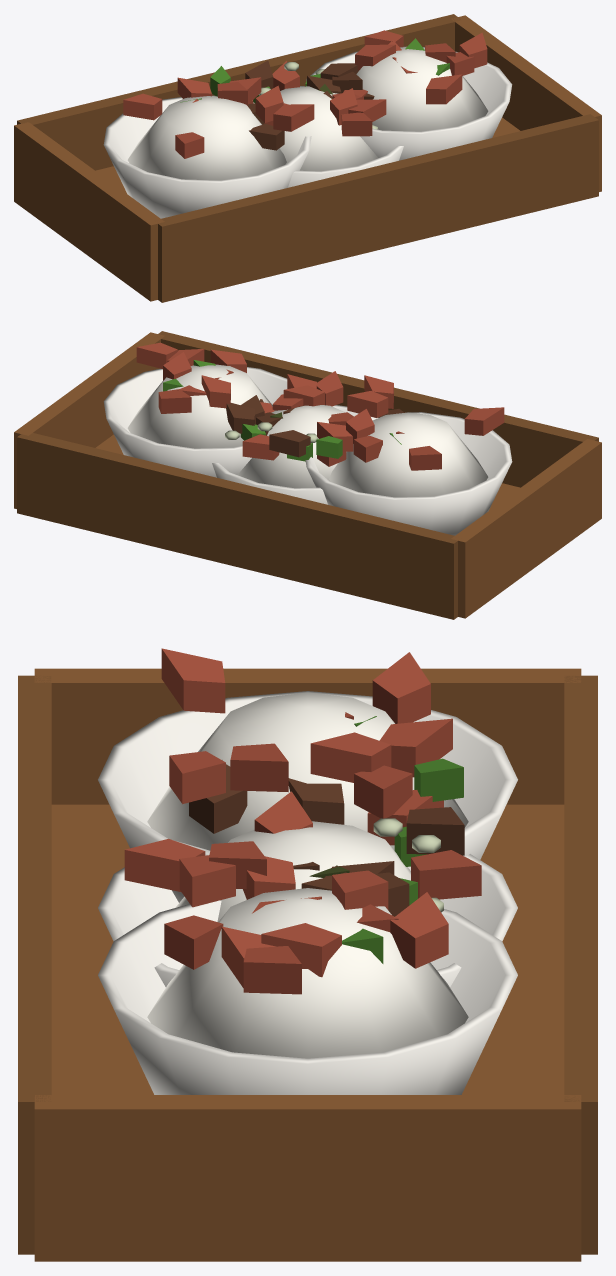
File: Dish_RiceBowl.fbx
3 renders of one model, top to bottom at view 1: azimuth 30°, elevation 25°; view 2: azimuth 150°, elevation 25°; view 3: azimuth 270°, elevation 25°, orthographic. The views are drawn at different scales.
Parts seen in each view (by area): view 1: Dish_RiceBowl__Stack, Dish_RiceBowl, Dish_RiceBowl__Rotten; view 2: Dish_RiceBowl__Stack, Dish_RiceBowl, Dish_RiceBowl__Rotten; view 3: Dish_RiceBowl__Stack, Dish_RiceBowl, Dish_RiceBowl__Rotten.
Boxes of the visible parts, x1=… form: Dish_RiceBowl__Stack: x1=14, y1=14, x2=601, y2=302; Dish_RiceBowl: x1=248, y1=61, x2=403, y2=187; Dish_RiceBowl__Rotten: x1=245, y1=60, x2=377, y2=150; Dish_RiceBowl__Stack: x1=14, y1=331, x2=601, y2=619; Dish_RiceBowl: x1=212, y1=371, x2=358, y2=504; Dish_RiceBowl__Rotten: x1=225, y1=395, x2=404, y2=457; Dish_RiceBowl__Stack: x1=18, y1=648, x2=597, y2=1261; Dish_RiceBowl: x1=98, y1=790, x2=517, y2=986; Dish_RiceBowl__Rotten: x1=189, y1=760, x2=464, y2=916.
Size of the model in its own units: 0.248 by 0.0646 by 0.138.
